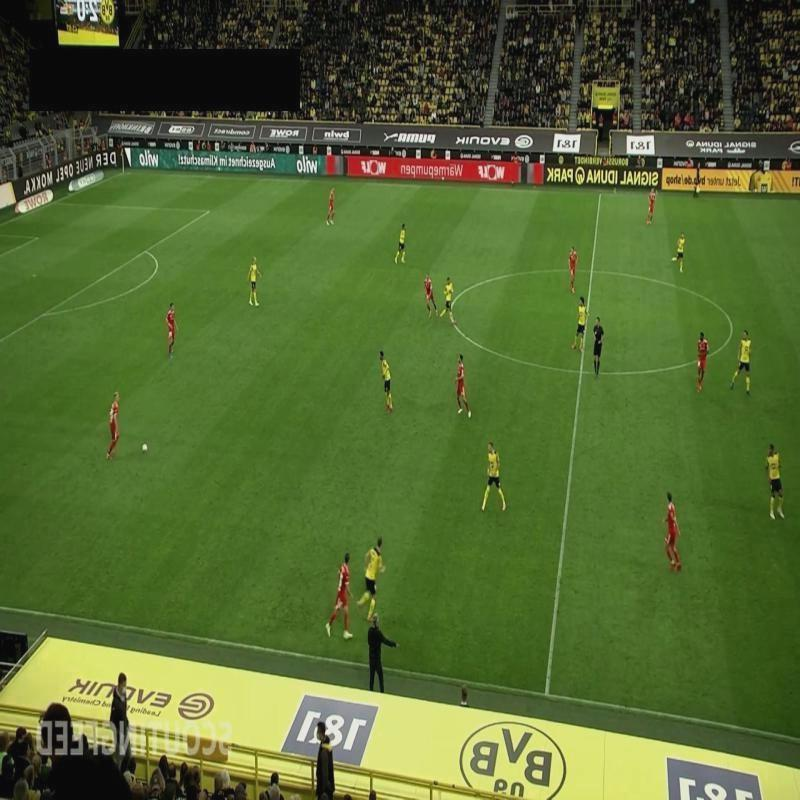1: (116, 168, 131, 182)
10: (136, 242, 155, 260)
11: (35, 305, 54, 324)
13: (594, 186, 608, 200)
14: (584, 264, 600, 279)
15: (573, 363, 590, 381)
16: (530, 683, 562, 707)
2: (43, 194, 64, 214)
7: (28, 230, 46, 248)
9: (200, 203, 217, 220)
c: (442, 298, 458, 320), (723, 322, 741, 341), (558, 764, 572, 778)
